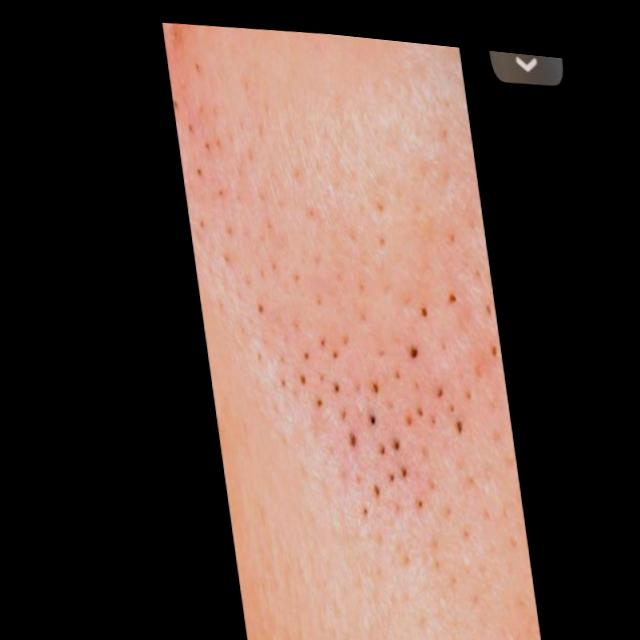blackhead: (248, 250, 481, 542)
